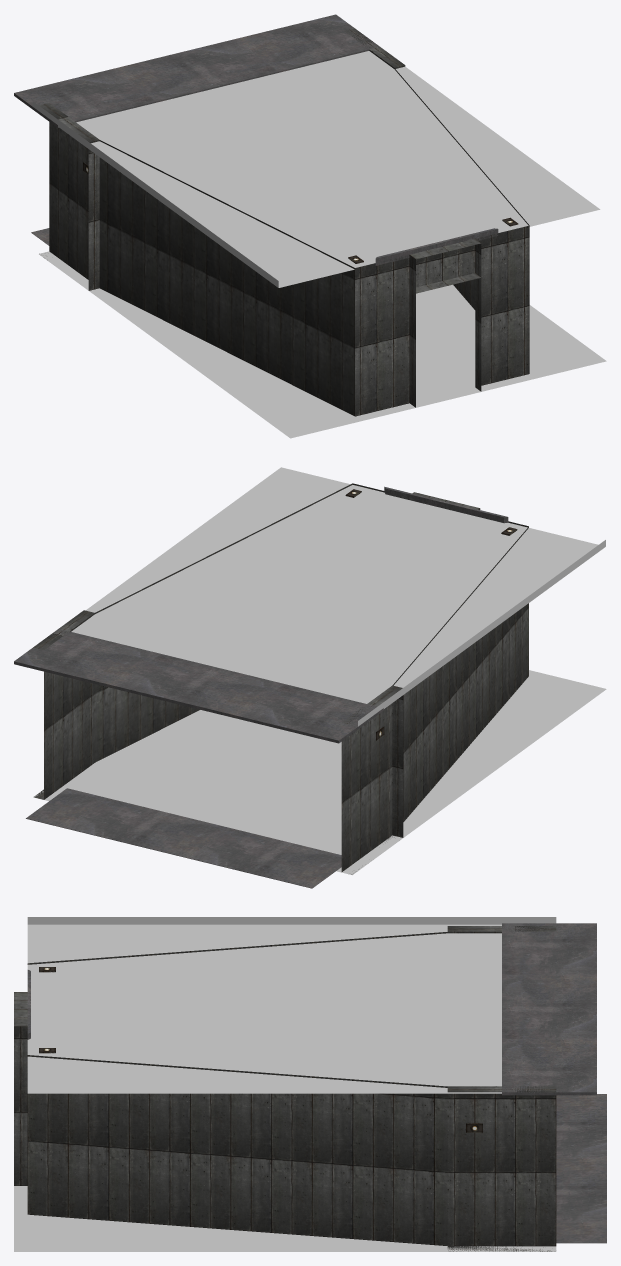
The model's file is HC_room1_endroom.gltf.
3 views of the same model, one above another, from view 1: azimuth 30°, elevation 25°; view 2: azimuth 150°, elevation 25°; view 3: azimuth 270°, elevation 25° (orthographic). The views are drawn at different scales.
Parts seen in each view (by area): view 1: HC_room1_endroom; view 2: HC_room1_endroom; view 3: HC_room1_endroom.
Boxes of the visible parts, left/top/right/bottom form: HC_room1_endroom: left=14, top=14, right=606, bottom=438; HC_room1_endroom: left=14, top=467, right=606, bottom=888; HC_room1_endroom: left=14, top=917, right=606, bottom=1251.
Size of the model in its own units: 9.44 by 4.32 by 14.
